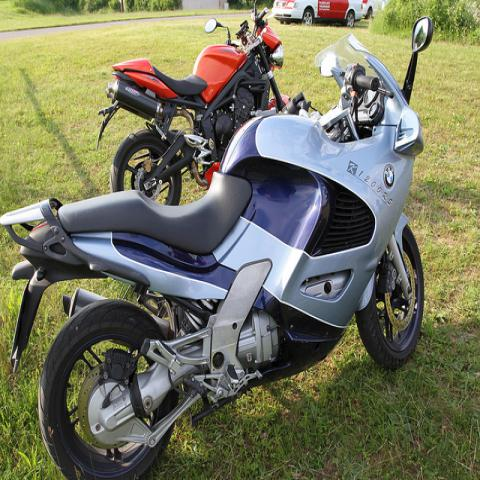car: (271, 1, 362, 28), (362, 0, 378, 19)
motorcycle: (0, 17, 433, 470), (96, 5, 290, 198)
